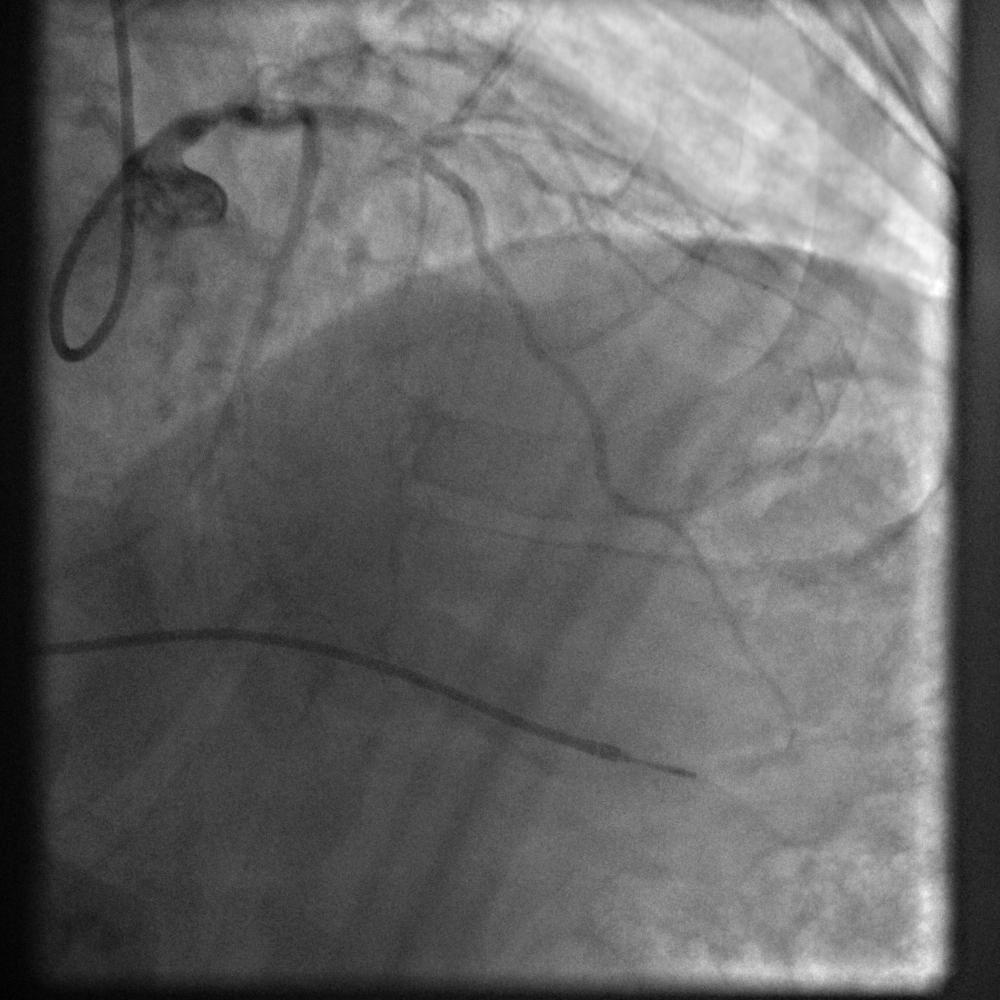Stenosis: (383, 120, 465, 174)
